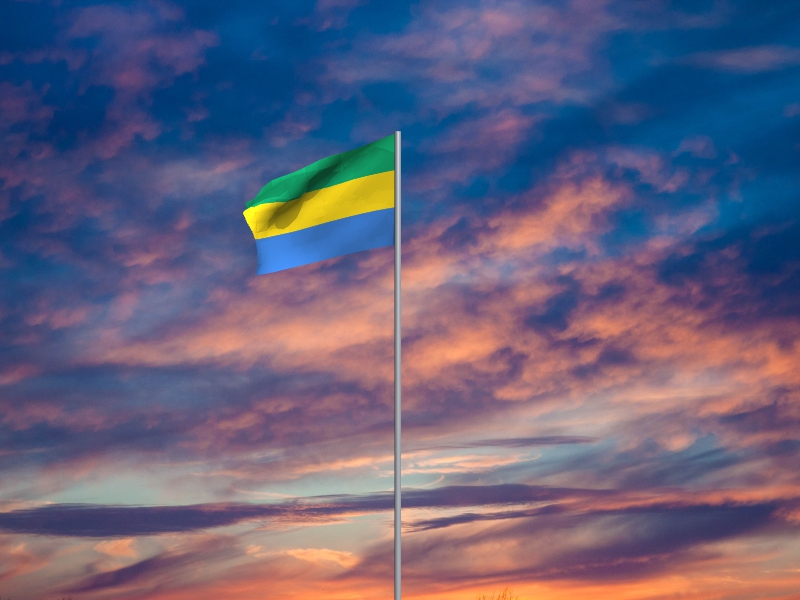ga: (243, 134, 395, 277)
